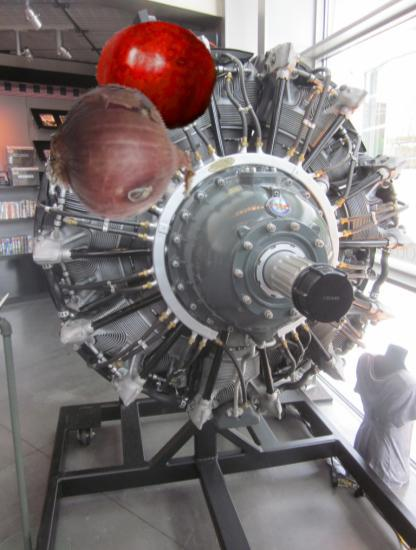Onion: (50, 79, 198, 227)
Pomegranate: (94, 18, 218, 142)
